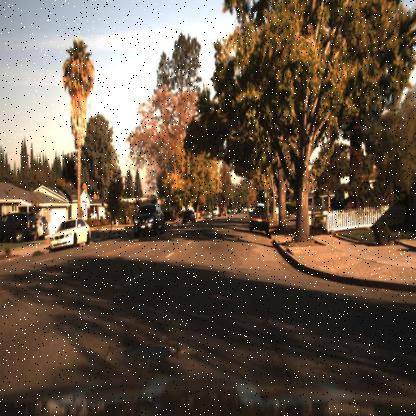car: (129, 199, 168, 242), (49, 218, 91, 250), (131, 200, 166, 238), (0, 211, 37, 243), (248, 204, 270, 234), (304, 190, 330, 215), (181, 208, 196, 226)
